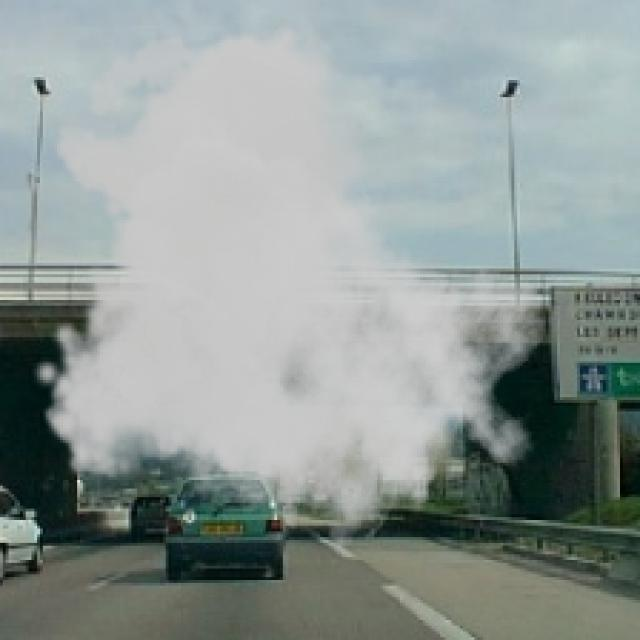smoke: (31, 20, 548, 574)
